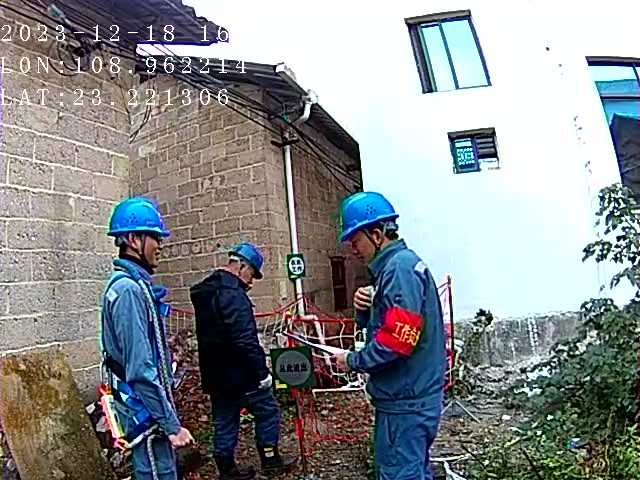badge: (377, 307, 425, 357)
downsuit: (123, 399, 186, 480), (206, 393, 279, 461), (373, 419, 443, 480)
halt: (338, 192, 401, 258), (108, 197, 170, 259), (224, 242, 265, 282)
hand: (168, 427, 193, 450), (353, 288, 373, 311), (329, 352, 350, 371)
inear: (355, 222, 390, 256), (122, 231, 149, 259), (235, 259, 247, 278)
intosign: (270, 346, 314, 385)
person: (337, 190, 456, 480), (97, 194, 193, 480), (194, 240, 289, 474)
shoe: (258, 440, 296, 471)
upcloth: (193, 270, 262, 385)
upsuit: (349, 245, 454, 407), (99, 263, 174, 397)
wglove: (258, 374, 272, 387)
worksign: (287, 254, 304, 276)
